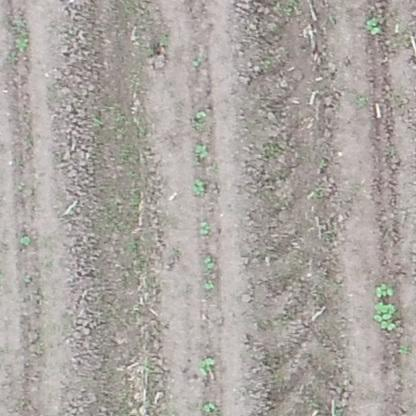vc: (374, 301, 397, 331), (198, 353, 218, 377), (365, 17, 382, 38), (375, 281, 397, 296), (195, 143, 212, 161), (202, 399, 219, 415), (198, 219, 212, 234), (192, 178, 205, 193), (204, 253, 216, 266), (194, 108, 206, 120), (20, 233, 30, 246), (203, 280, 215, 287)
